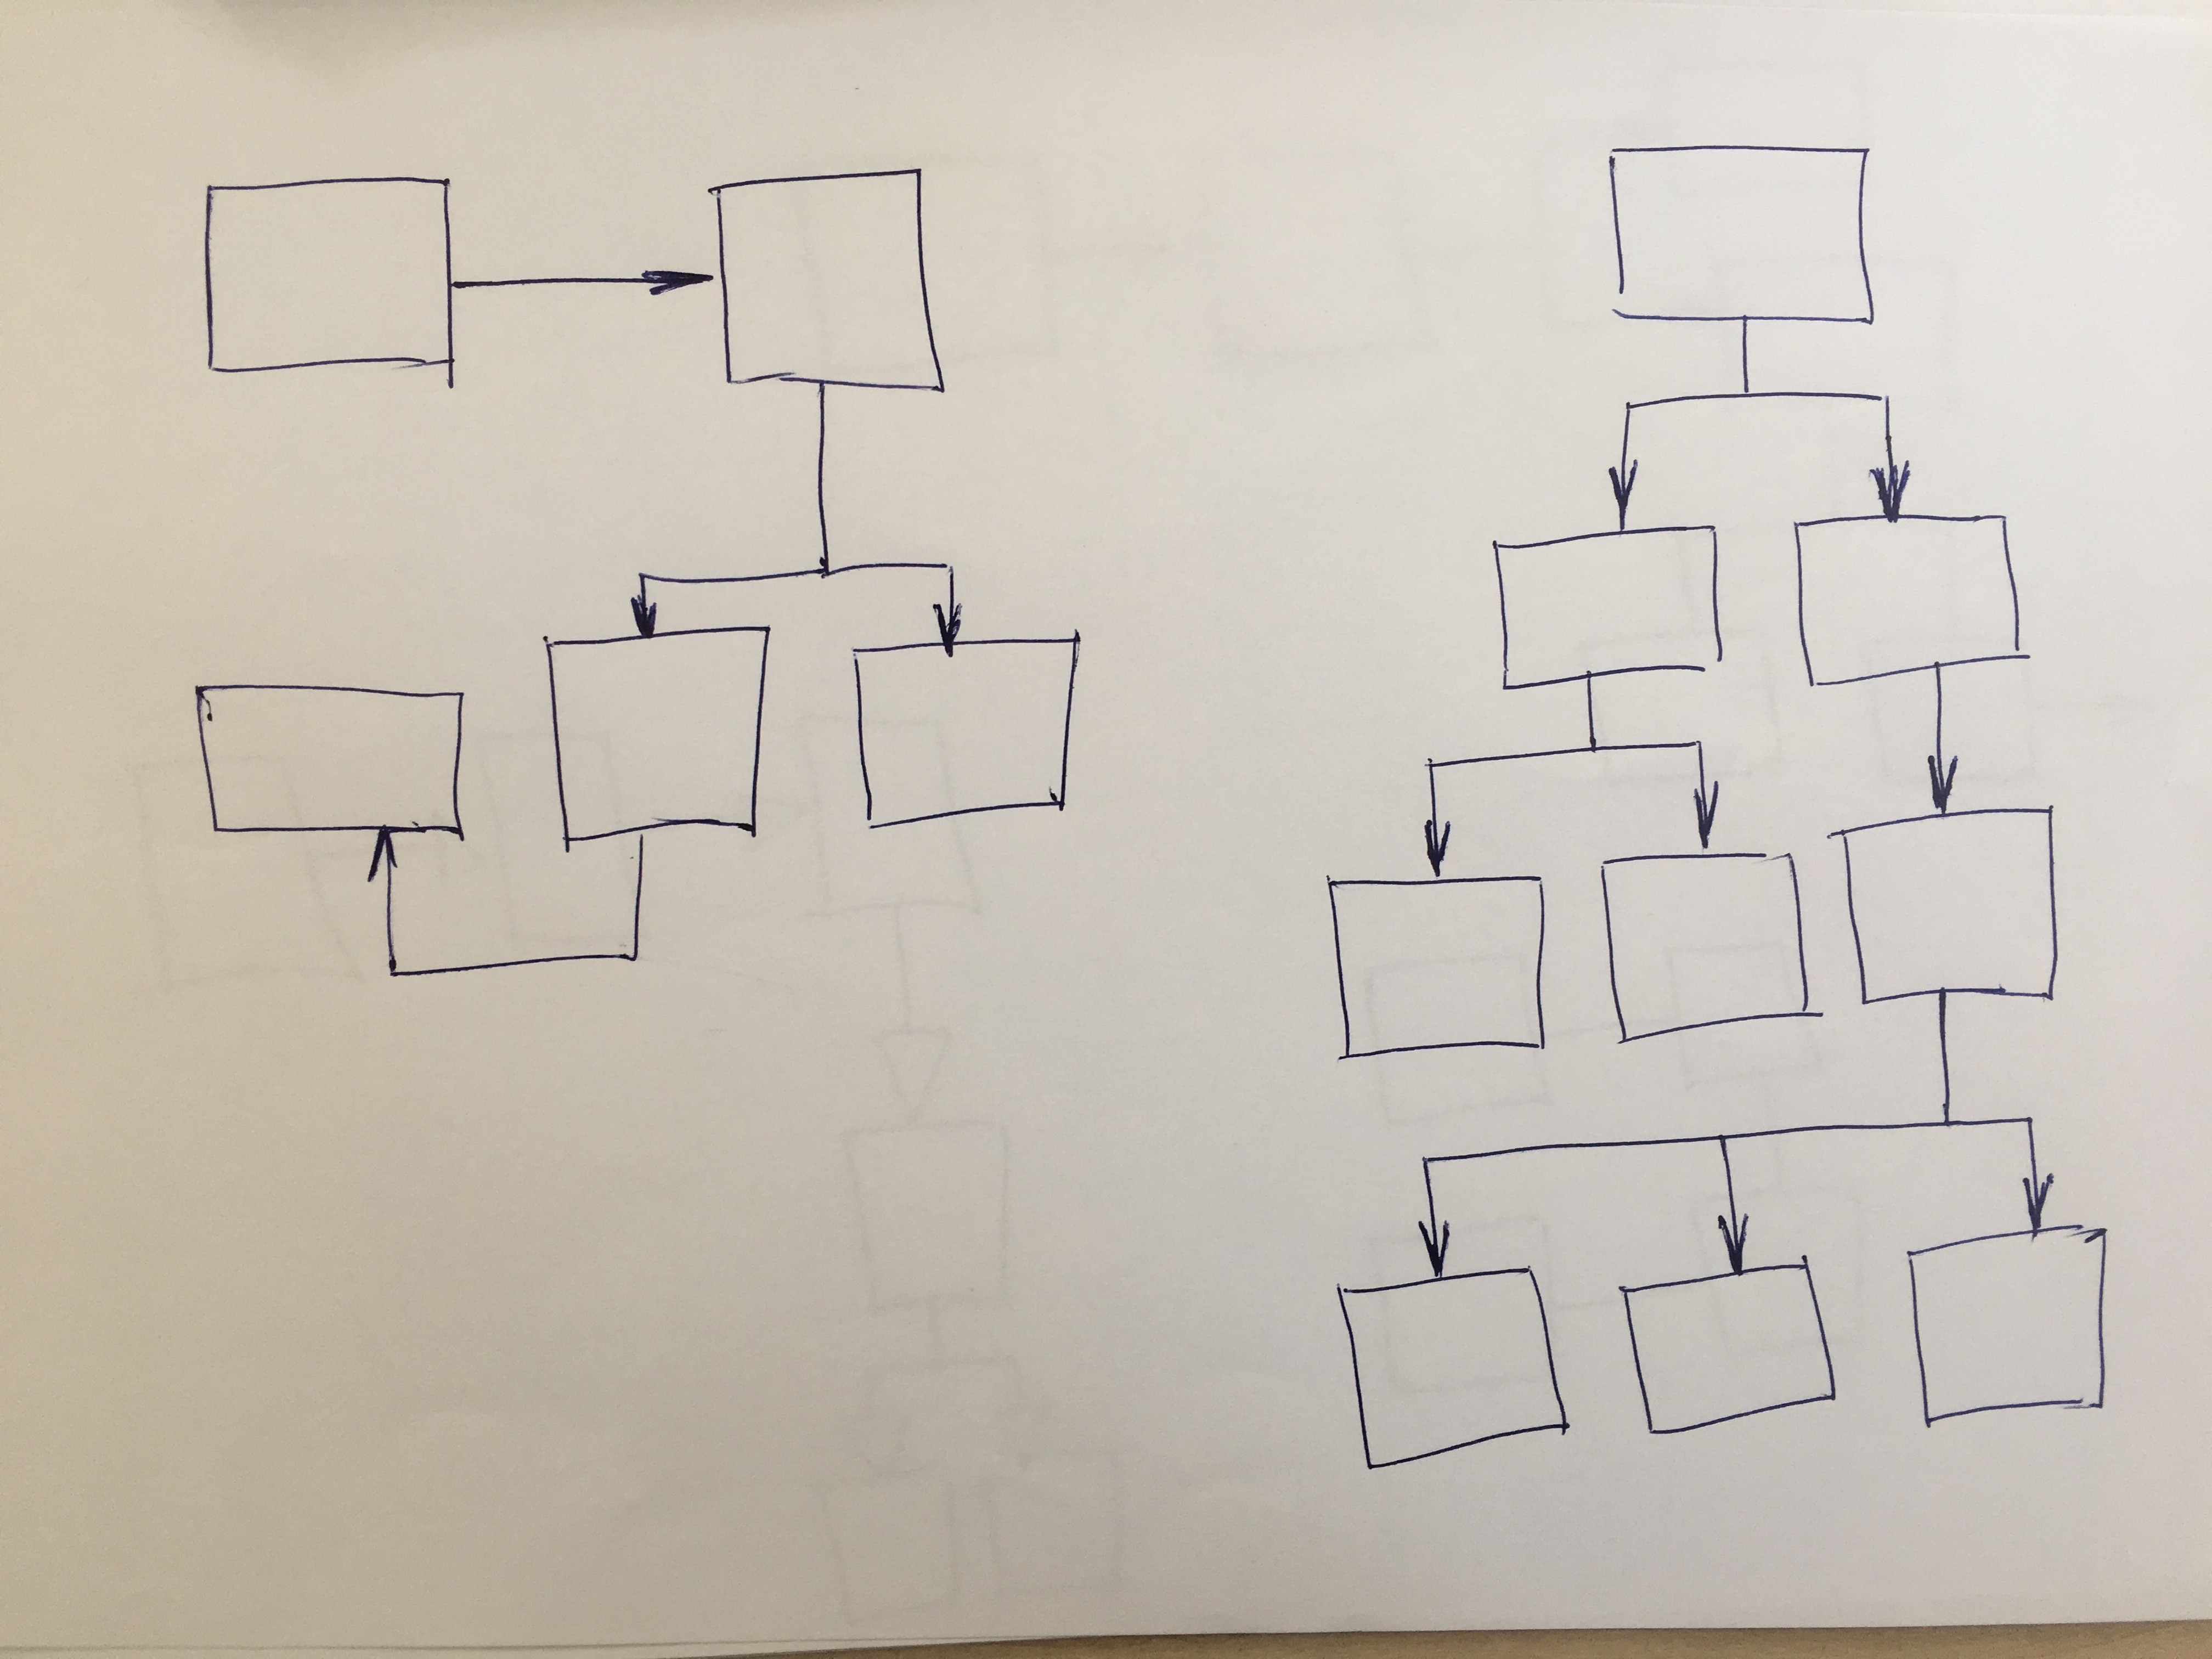arrow: (1707, 1194, 1757, 1300), (1409, 1202, 1458, 1309), (1414, 802, 1467, 899), (1916, 737, 1966, 836), (634, 251, 721, 308), (1862, 448, 1916, 538), (1604, 453, 1649, 556), (921, 580, 975, 666), (1679, 770, 1724, 871), (364, 814, 408, 911), (2015, 1164, 2055, 1260), (622, 587, 674, 652)
